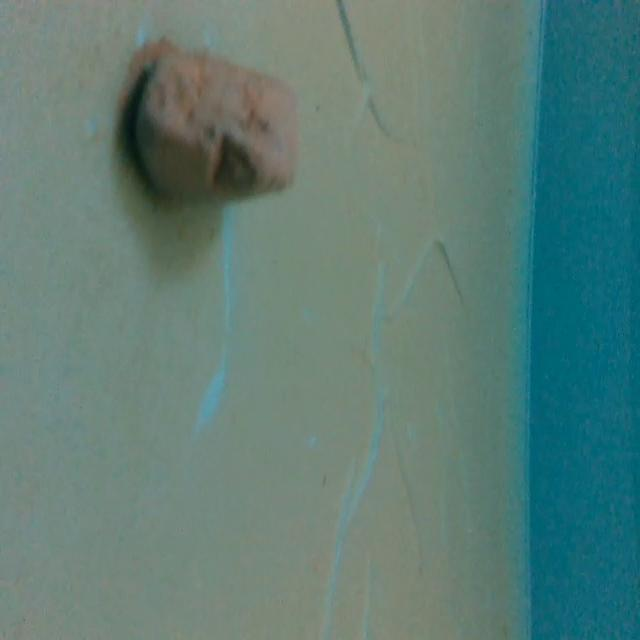rock: (122, 26, 306, 220)
